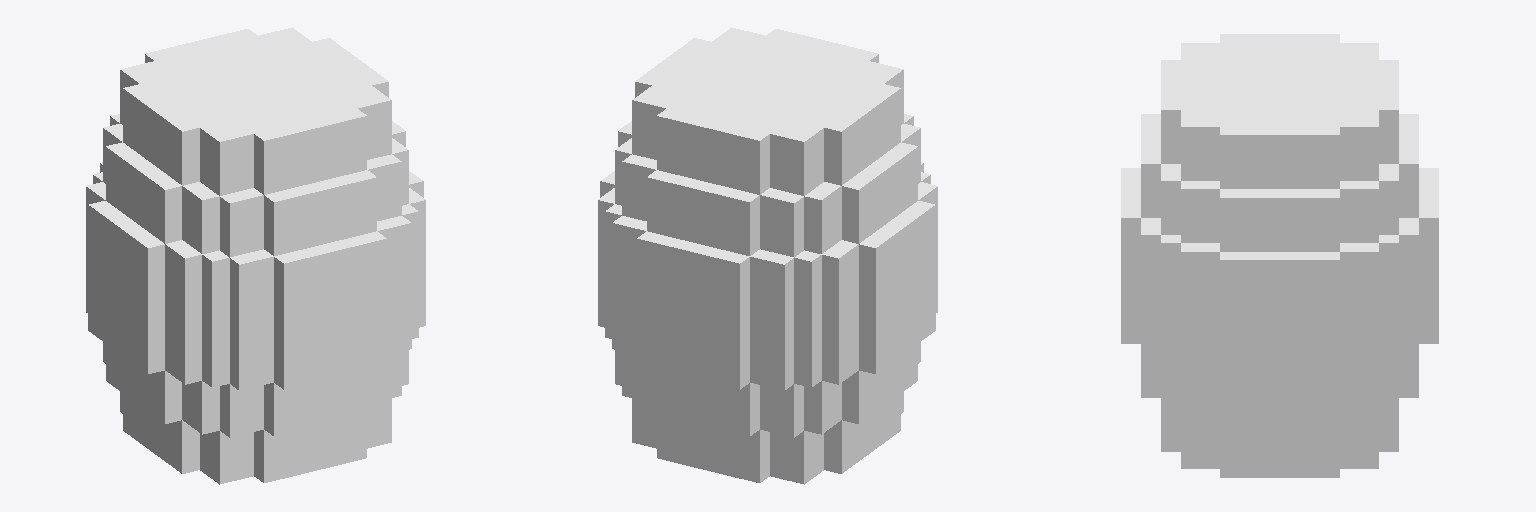
The model's file is barrel_v1.obj.
The picture shows the model from 3 angles: view 1: azimuth 30°, elevation 25°; view 2: azimuth 150°, elevation 25°; view 3: azimuth 270°, elevation 25°; orthographic projection.
Parts seen in each view (by area): view 1: barrel_v1; view 2: barrel_v1; view 3: barrel_v1.
Part boxes in pixels (bbox=[...]): barrel_v1: bbox=[86, 27, 425, 484]; barrel_v1: bbox=[598, 27, 937, 484]; barrel_v1: bbox=[1121, 34, 1438, 477].
Bounding box in the file's own units: 16 × 19 × 16.